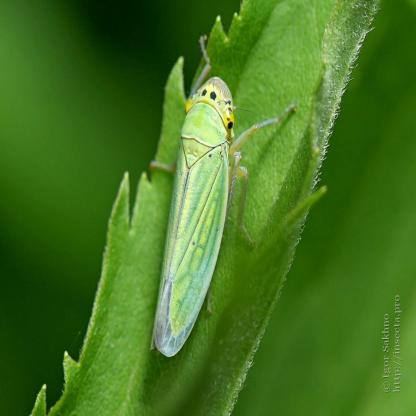Green-Leafhopper: (149, 33, 299, 359)
